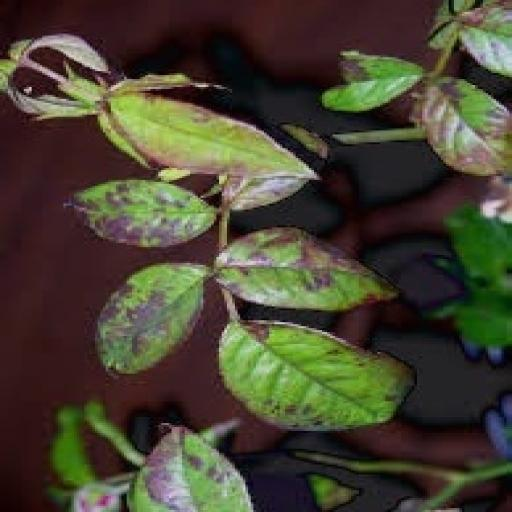downy_mildew: (220, 323, 411, 430), (98, 93, 316, 179), (217, 228, 395, 310), (98, 263, 208, 373), (130, 427, 253, 511), (72, 180, 216, 247), (415, 78, 511, 175), (447, 208, 511, 347), (322, 52, 424, 112), (447, 206, 511, 282), (457, 2, 511, 77), (11, 34, 108, 73), (51, 408, 97, 486), (457, 287, 511, 347), (222, 176, 308, 211), (111, 74, 221, 92), (307, 475, 361, 511)
